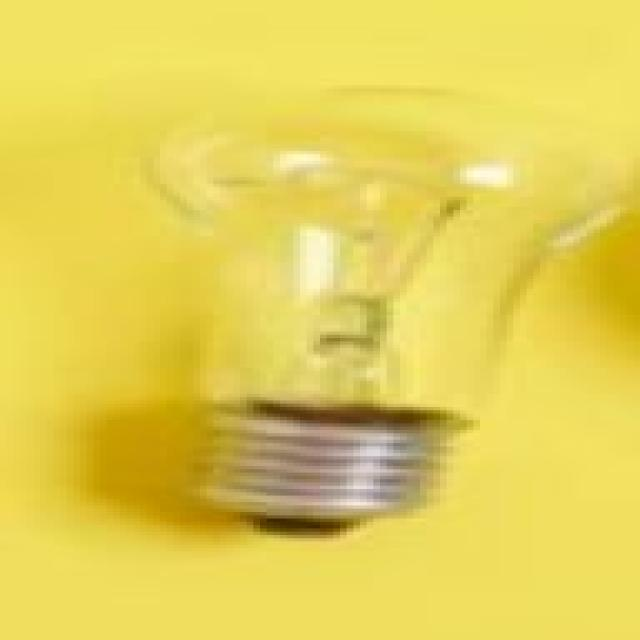electronic: (120, 82, 627, 525)
